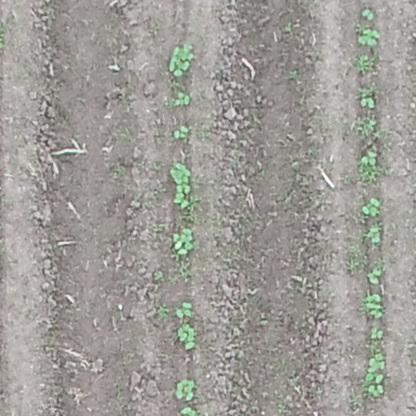vc: (167, 158, 195, 211), (364, 350, 387, 398), (168, 41, 193, 78), (169, 226, 196, 256), (175, 323, 199, 351), (173, 377, 199, 402), (366, 294, 386, 320), (358, 28, 384, 46), (361, 196, 383, 217), (174, 300, 196, 318), (173, 91, 195, 108), (359, 96, 381, 112), (366, 226, 384, 245), (361, 149, 378, 167), (172, 124, 191, 140), (367, 266, 381, 284), (369, 327, 387, 340), (363, 8, 376, 23)
